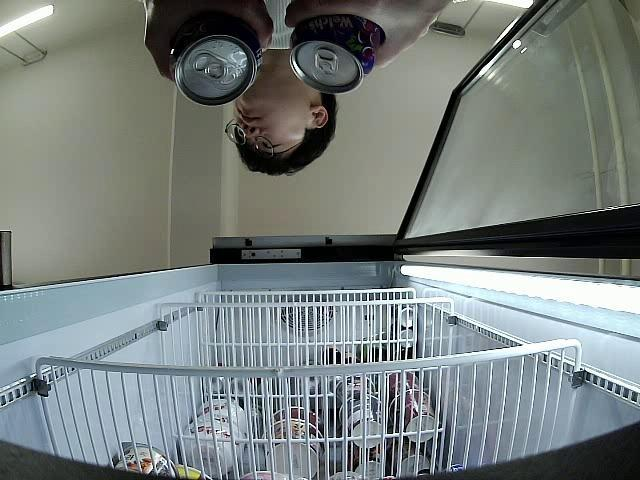14_welchsGrape: (168, 13, 262, 107), (290, 12, 384, 94)
